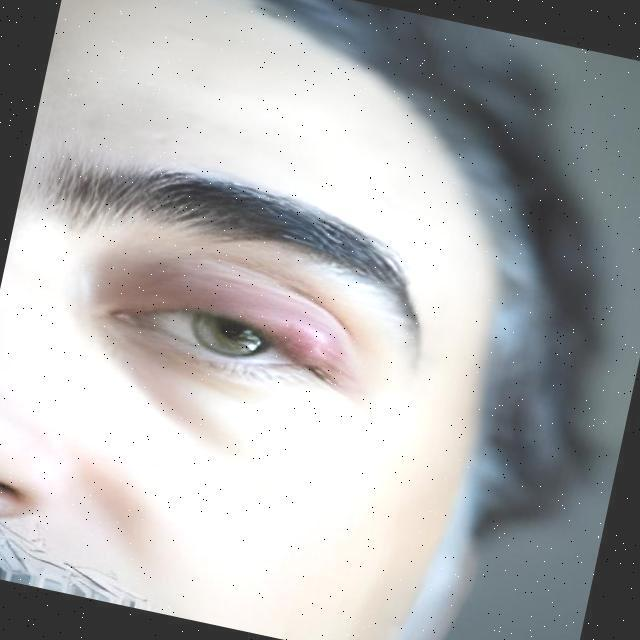Stye: (222, 290, 396, 389)
